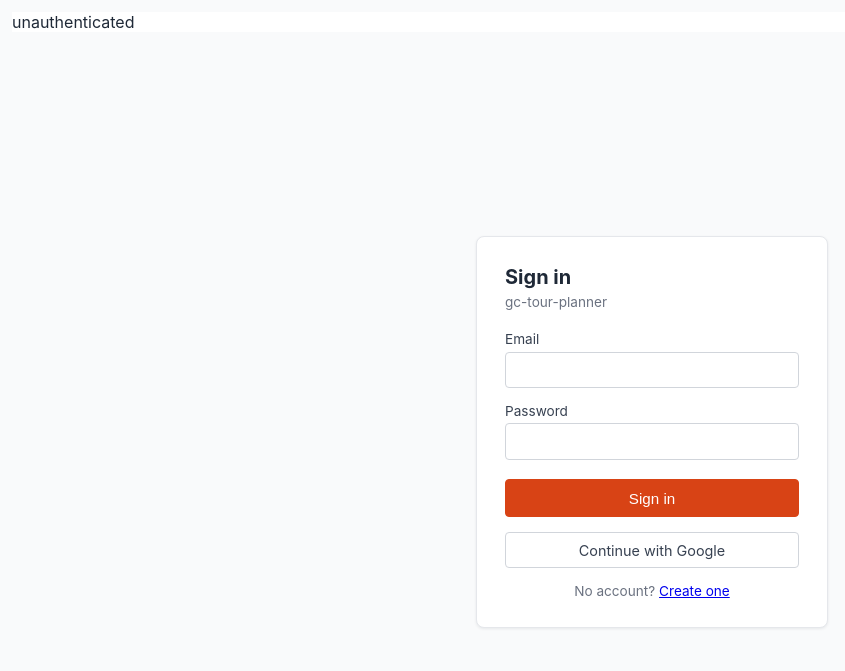
Test: LoginPage › shows a generic error on bad credentials and does not redirect
Expected: the text with test id "auth-status" reads "unauthenticated", top-left (12, 12), bottom-right (134, 32)
Type "user@example.com" into the field labelled "Email". click: (652, 370)
box: top-left (505, 352), bottom-right (799, 388)
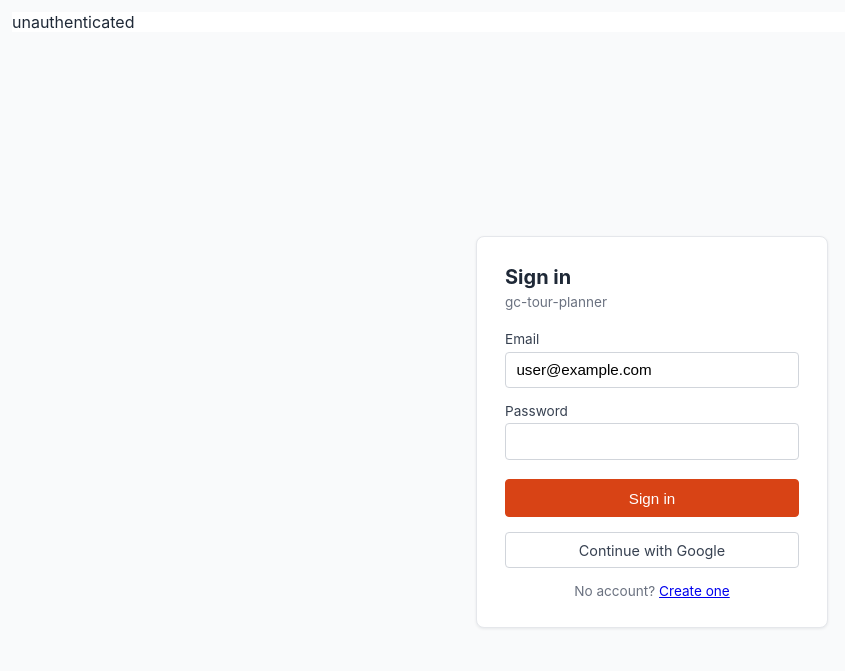
Type "wrongpass1" into the password field labelled "Password". click: (652, 442)
box: top-left (505, 423), bottom-right (799, 460)
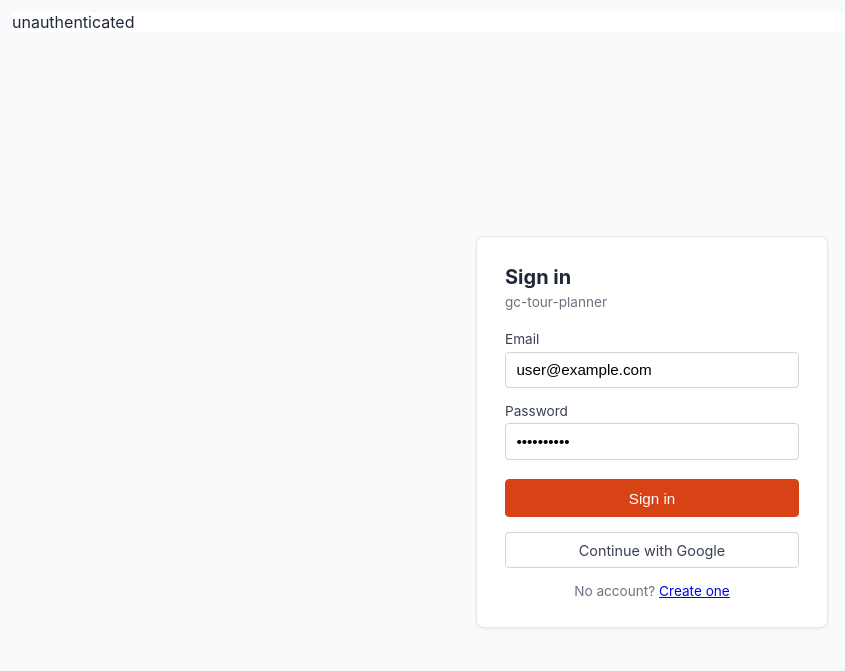
Click the button "Sign in". click: click(652, 498)
box: top-left (505, 479), bottom-right (799, 517)
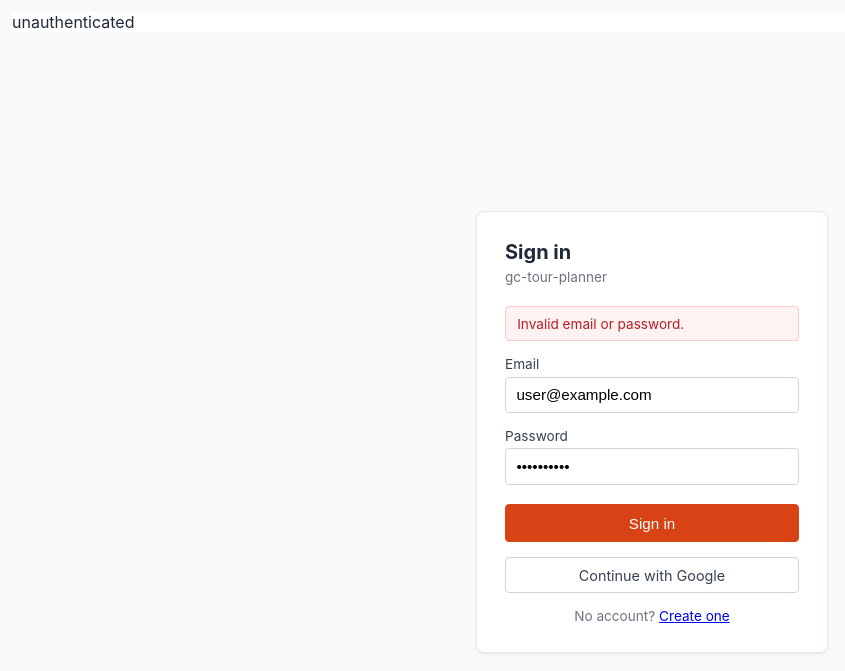
Expected: the text "Invalid email or password." is shown, top-left (505, 306), bottom-right (799, 341)
